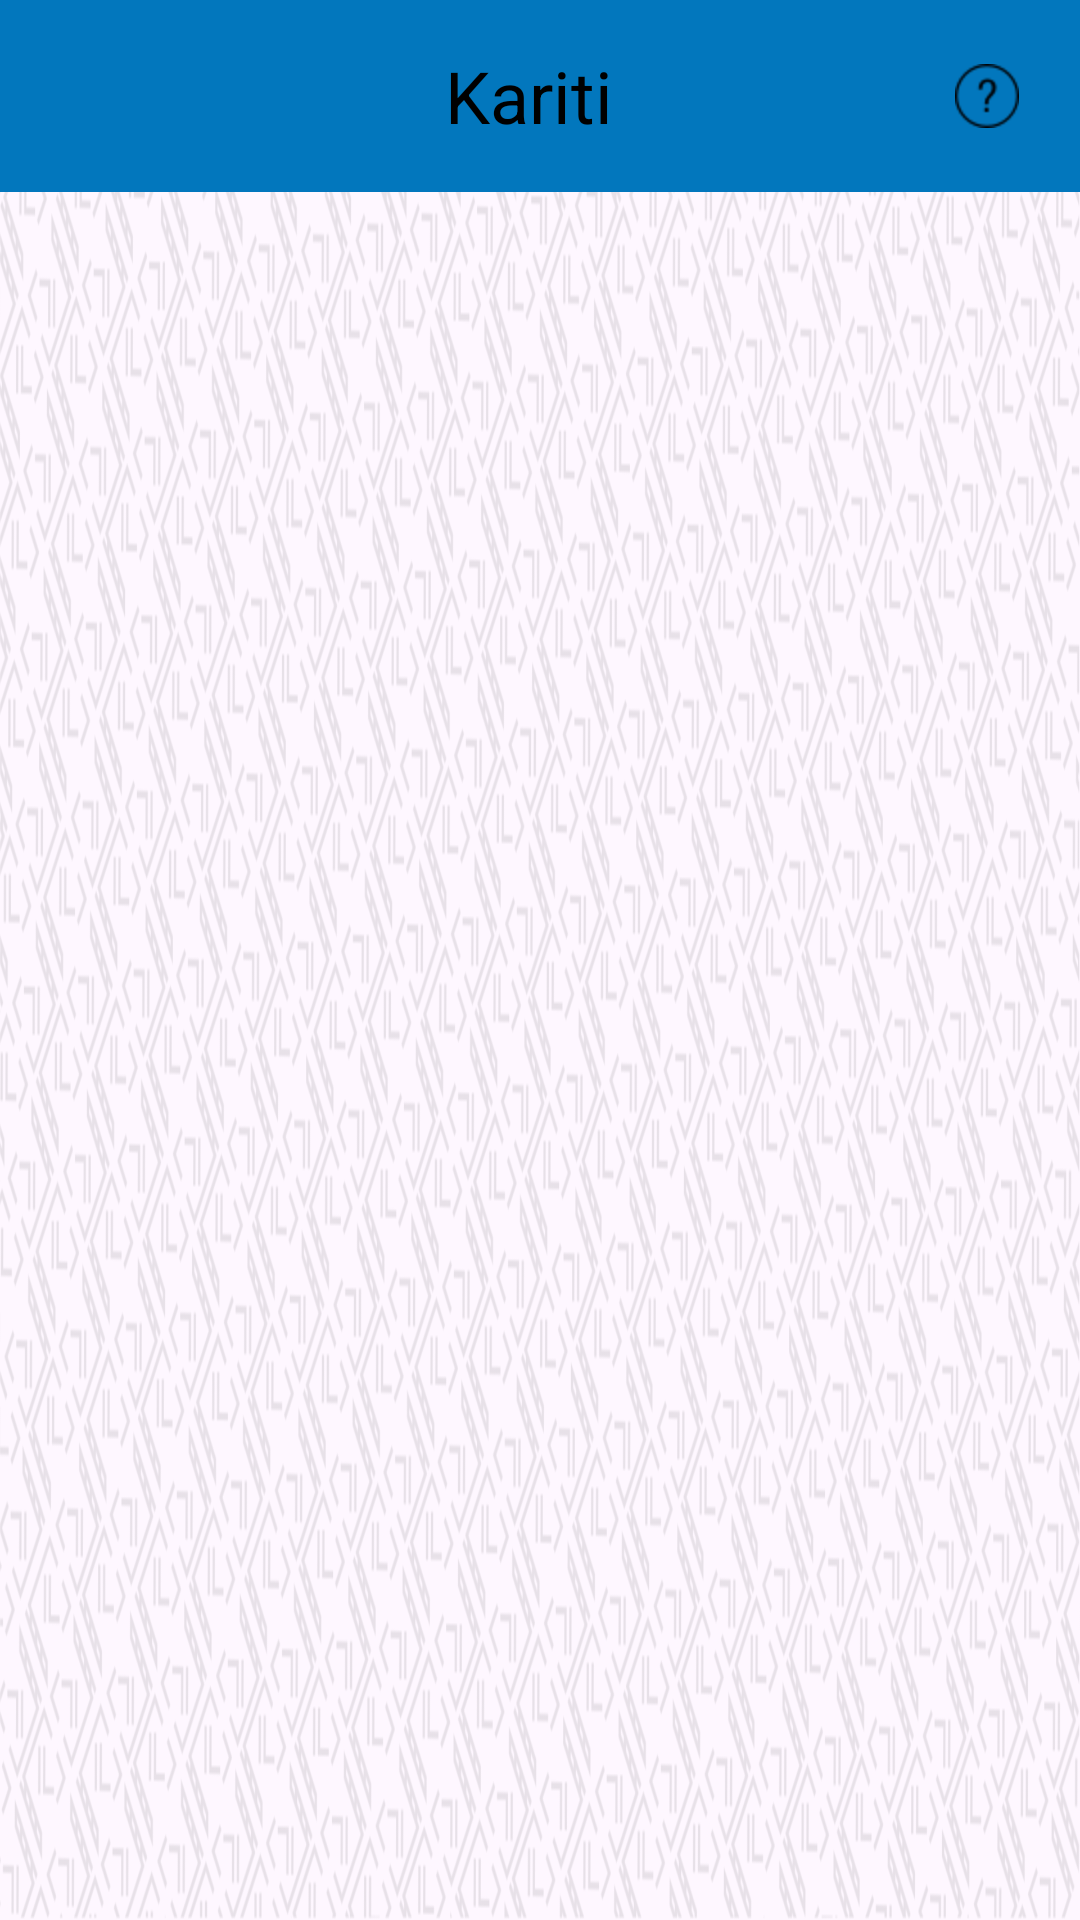

Icon click points for this 1080px x 1920px phone screenshot, format (x,y):
Ajuda: (987,96)
